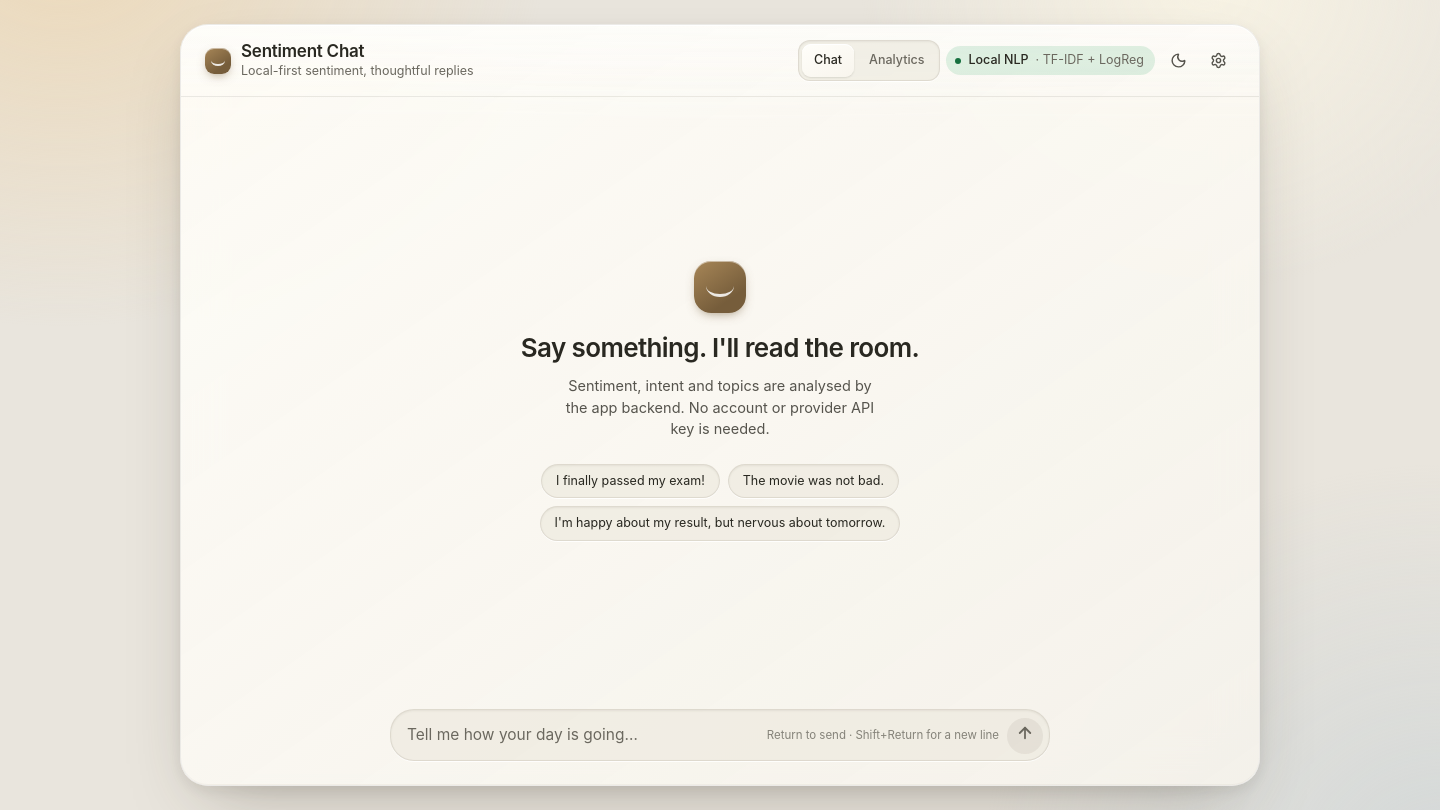
Scenario: chat request failure shows error, keeps text, no fake reply
This screenshot has width=1440, height=810.
Type "something" into the text box named "Message" at {"x": 583, "y": 735}, box [407,716,759,754]
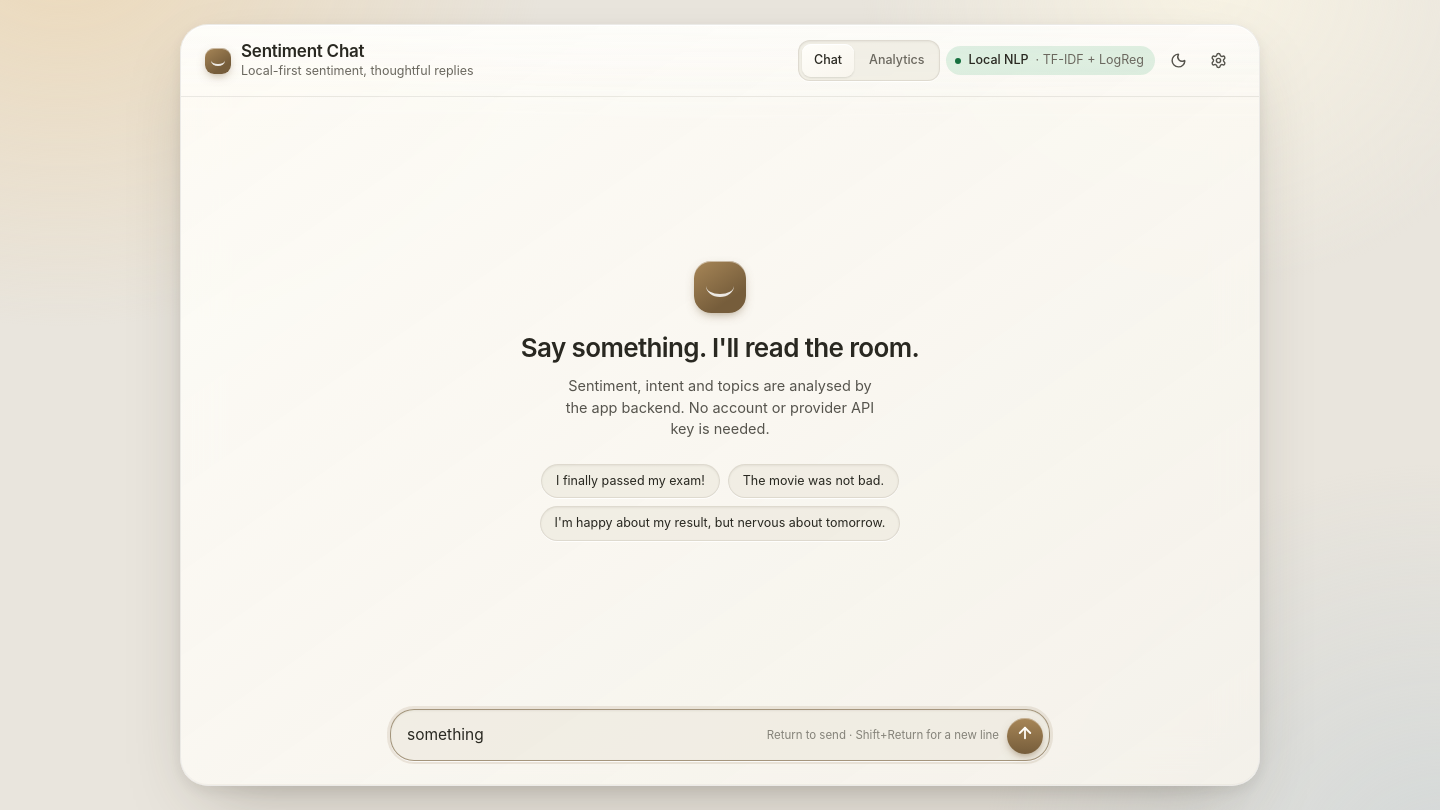
Click the button named "Send message" at {"x": 1025, "y": 736}, box [1007,718,1043,754]
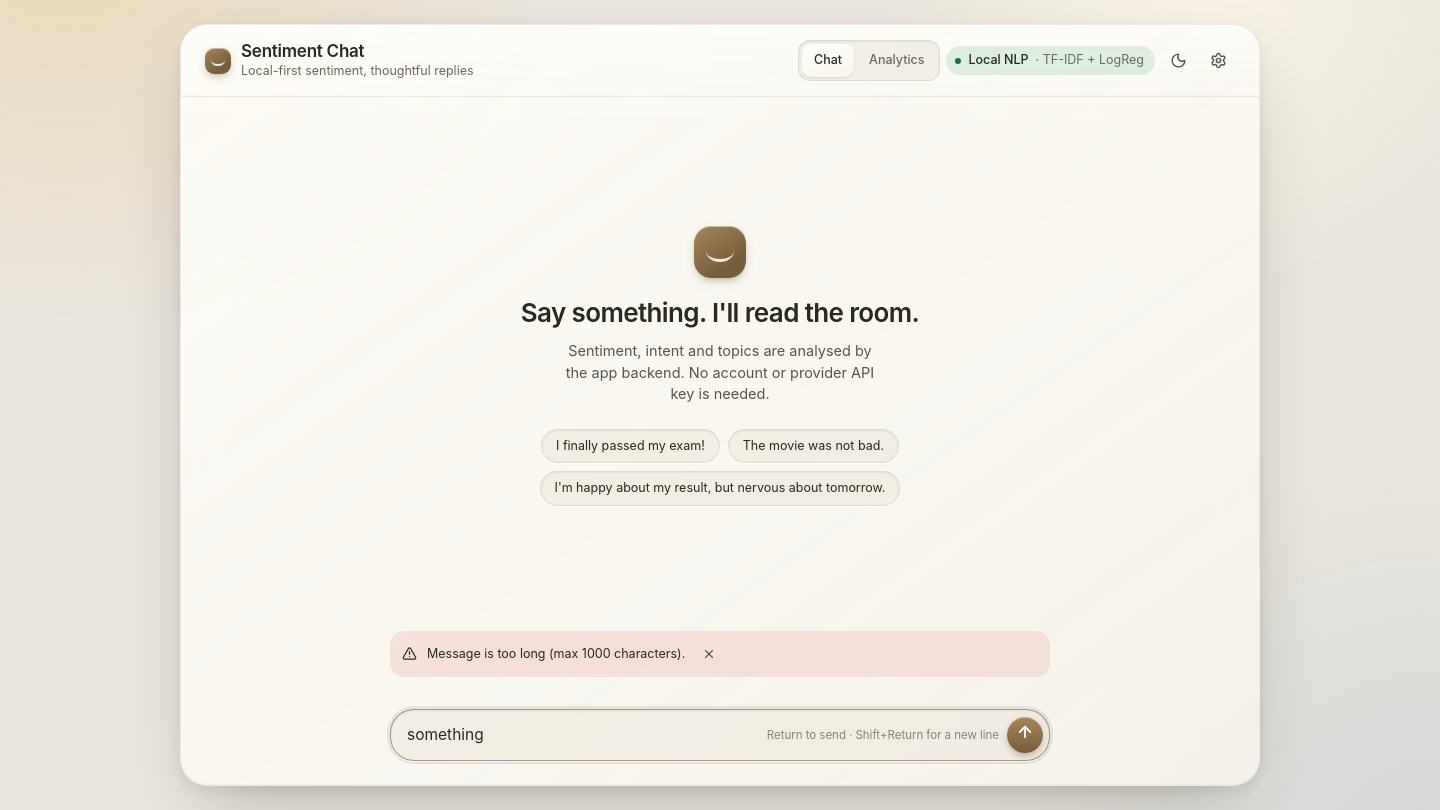
Check: the message "Message is too long (max 1000 characters)." is shown, box [390,631,1050,677]
